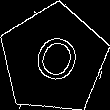O_SW: (24, 27, 82, 91)
